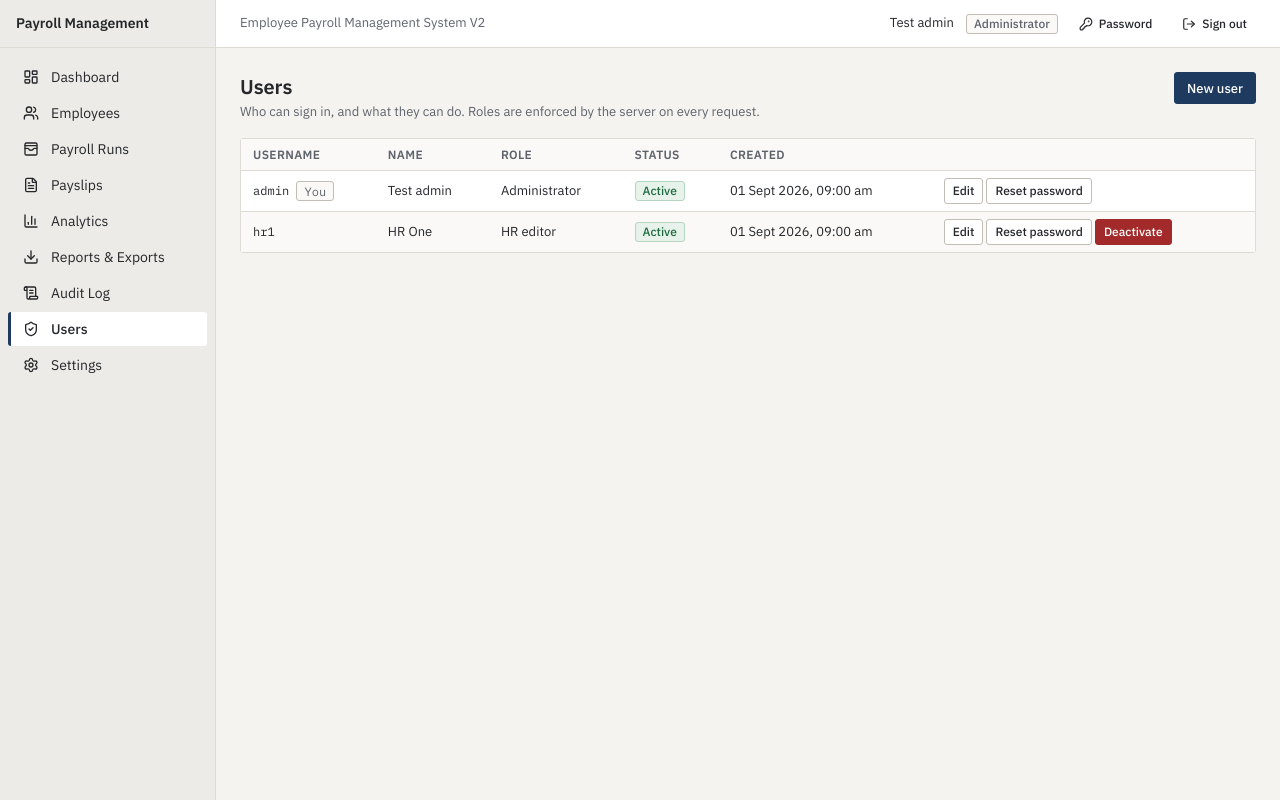
Users › you cannot change your own role in the UI (and the server refuses anyway)
The width and height of the screenshot is (1280, 800).
Click the button with aria-label "Edit admin".
click(964, 191)  # box [944,178,983,204]
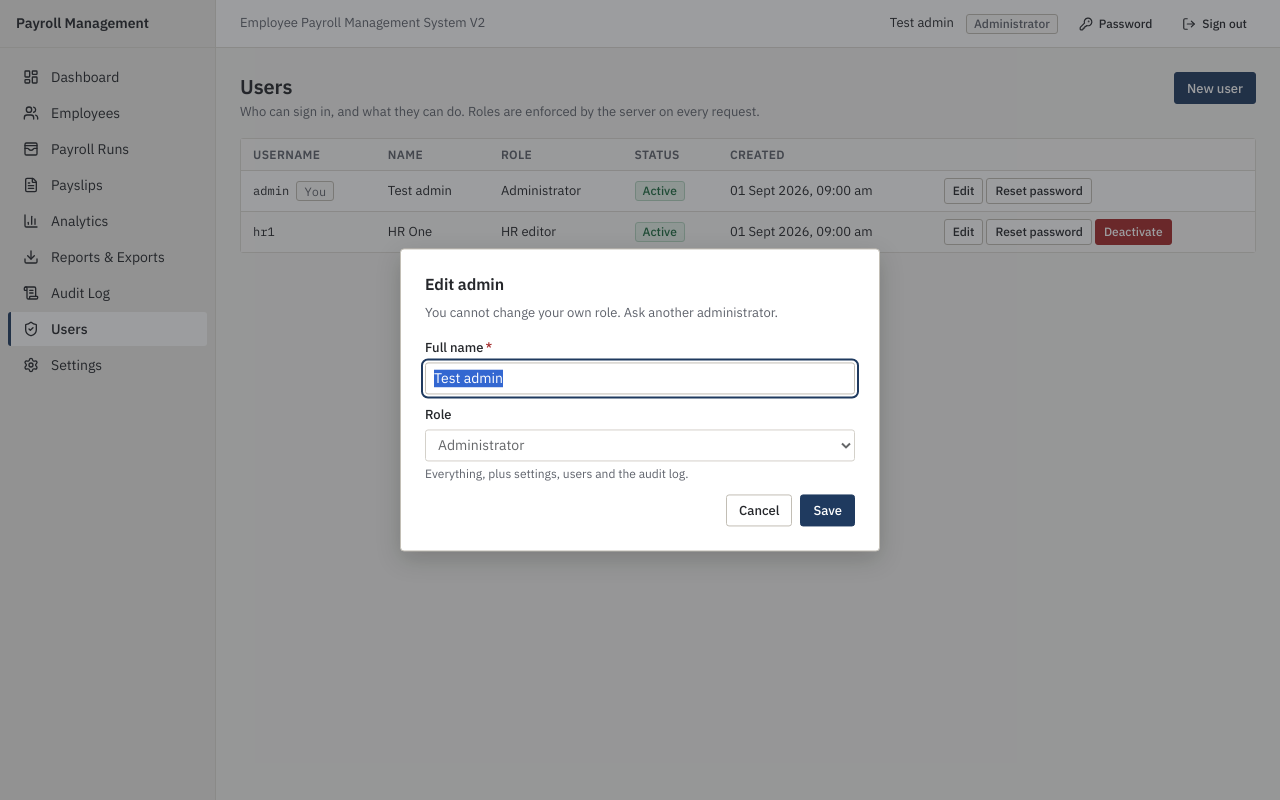
Check: the dropdown labelled "Role" is disabled, box [425,429,855,461]
Check: the dialog shows "cannot change your own role", box [425,305,778,322]
